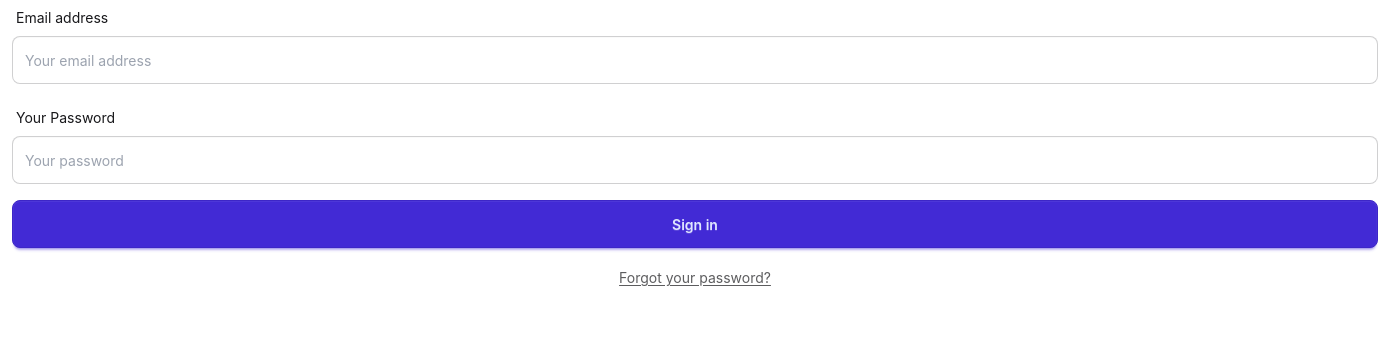
Test: EmailPasswordAuth autofill (#5499) › shows the auth error message when sign-in fails
In the field named "email": (695, 60) [12,36,1378,84], type "a@b.c"
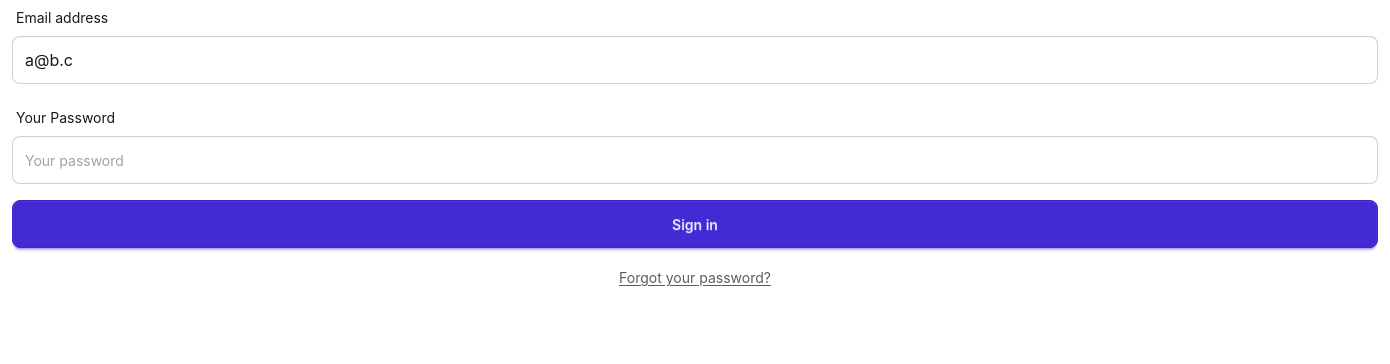
In the password field named "password": (695, 160) [12,136,1378,184], type "nope"
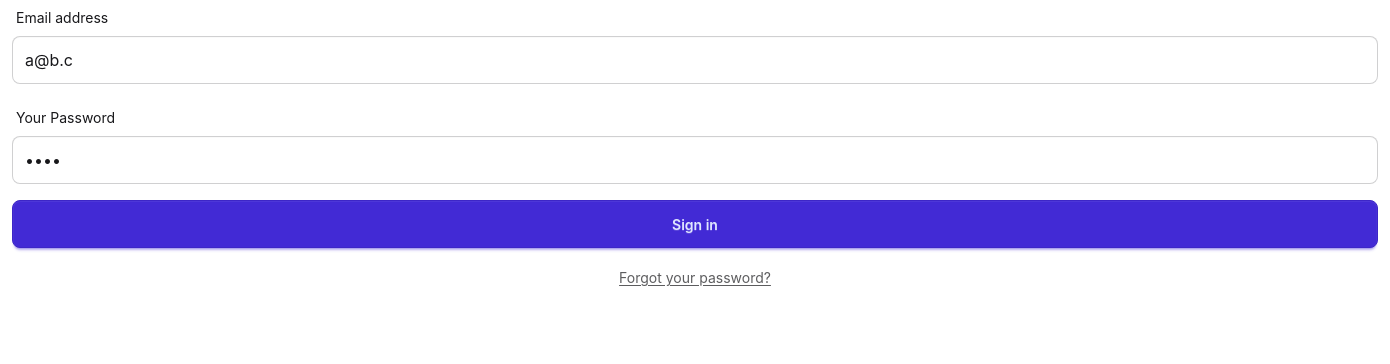
Submit the form
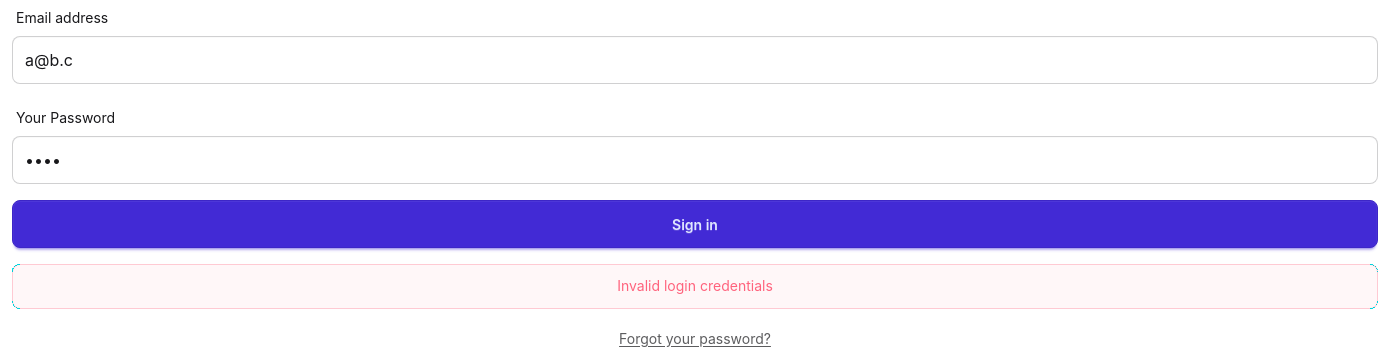
Now the text "Invalid login credentials" is shown, box [12,264,1378,309]
